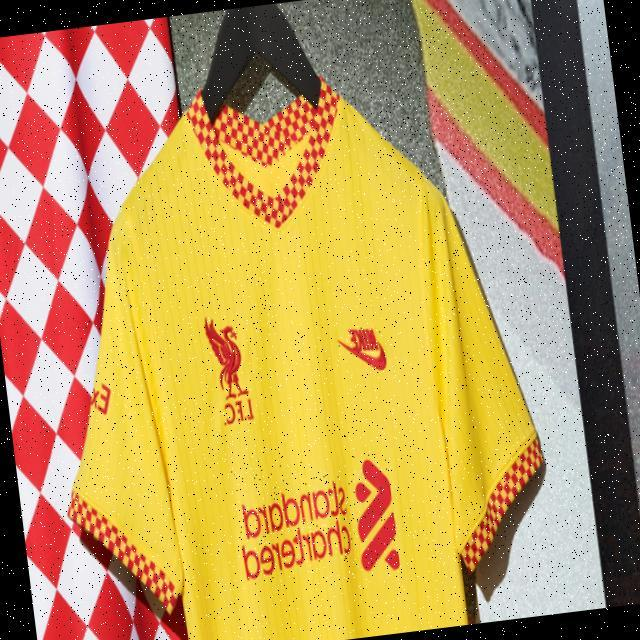Nike: (334, 322, 388, 377)
Standard Chartered: (230, 451, 399, 587)
